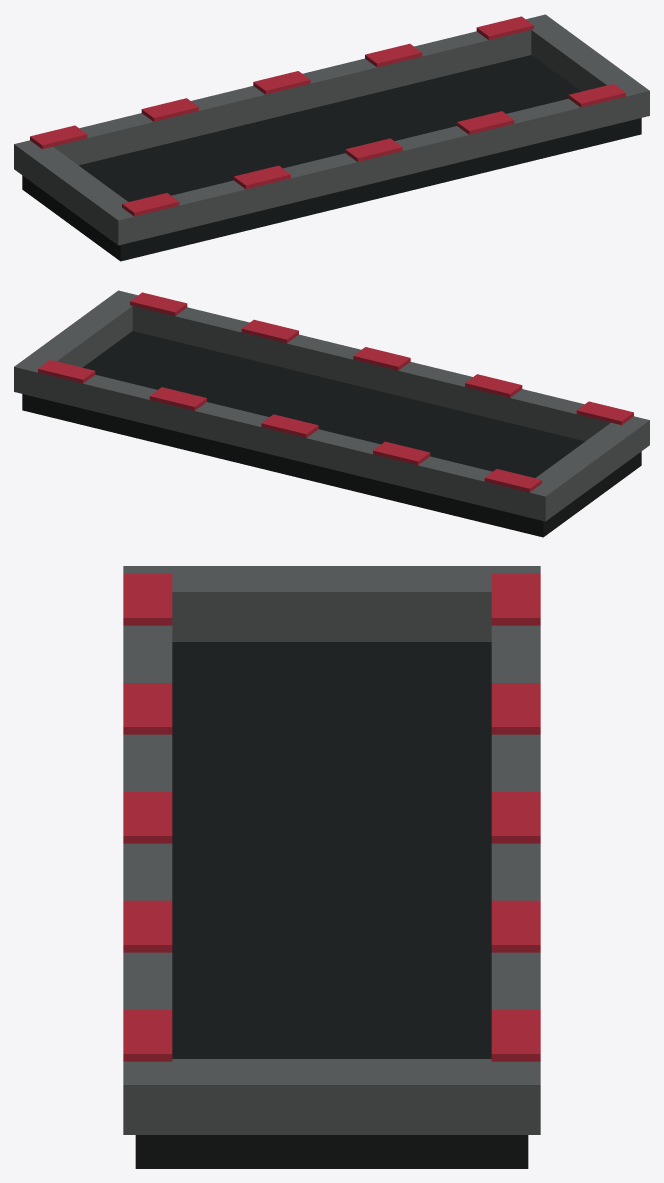
File: CMU3DRedBlastDoorOpen.glb
3 renders of one model, top to bottom at view 1: azimuth 30°, elevation 25°; view 2: azimuth 150°, elevation 25°; view 3: azimuth 270°, elevation 25°, orthographic. The views are drawn at different scales.
Visible parts, largest first — view 1: floor recess, floor shutter lip (×2), retracted warning marker (×10), recess end cap (×2); view 2: floor recess, floor shutter lip (×2), retracted warning marker (×10), recess end cap (×2); view 3: floor recess, recess end cap (×2), floor shutter lip (×2), retracted warning marker (×10).
Part boxes in pixels (box(x1,y1,x2,y2)): floor recess: box(22, 55, 641, 261); floor shutter lip (×2): box(14, 14, 649, 245); retracted warning marker (×10): box(30, 16, 625, 216); recess end cap (×2): box(26, 23, 637, 236); floor recess: box(22, 331, 641, 537); floor shutter lip (×2): box(14, 290, 649, 521); retracted warning marker (×10): box(38, 292, 633, 492); recess end cap (×2): box(26, 299, 637, 512); floor recess: box(135, 642, 528, 1168); recess end cap (×2): box(172, 566, 491, 1134); floor shutter lip (×2): box(123, 566, 540, 1134); retracted warning marker (×10): box(123, 574, 540, 1061).
Size of the model in its own units: 1 by 0.087 by 0.34.
